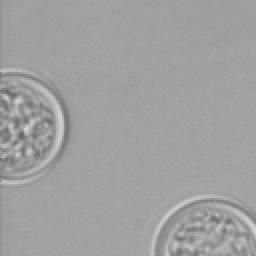picoshell: (0, 68, 68, 184), (150, 194, 254, 254)
